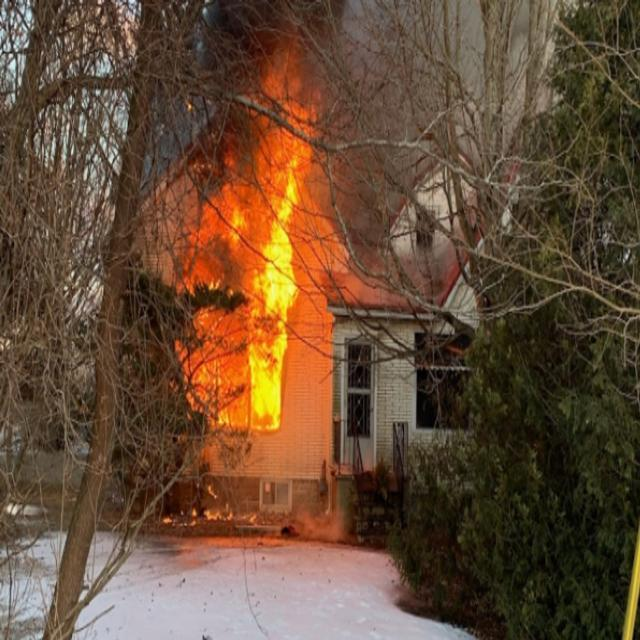Fire: (247, 48, 321, 433), (173, 151, 246, 428), (204, 484, 235, 522), (164, 508, 198, 524), (240, 511, 258, 526)
Smoke: (180, 0, 342, 48), (202, 54, 248, 154), (342, 262, 388, 304)
